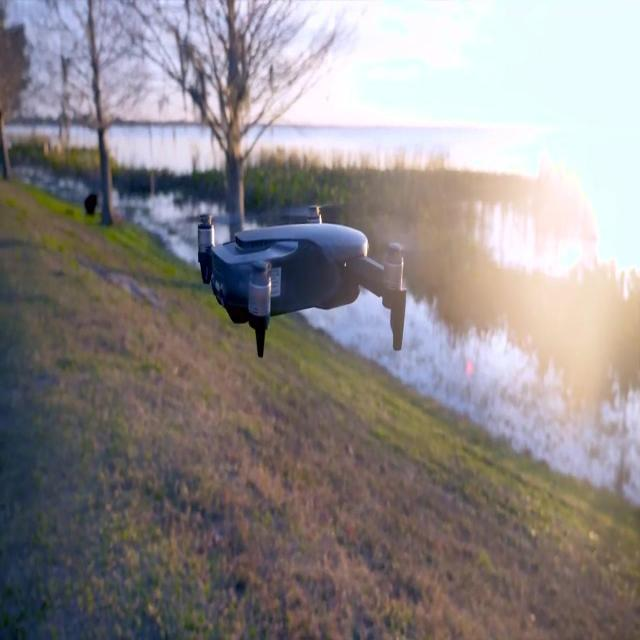drone: (183, 201, 413, 358)
